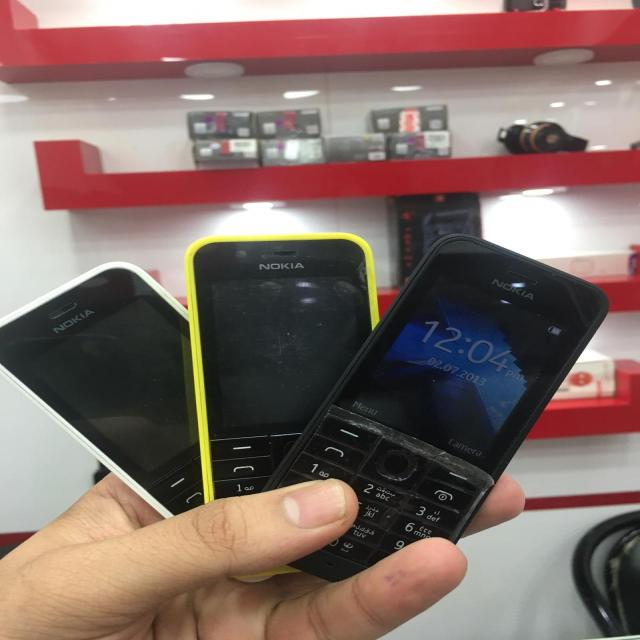mobile phone: (258, 232, 610, 584), (0, 260, 212, 520), (182, 232, 378, 502)
